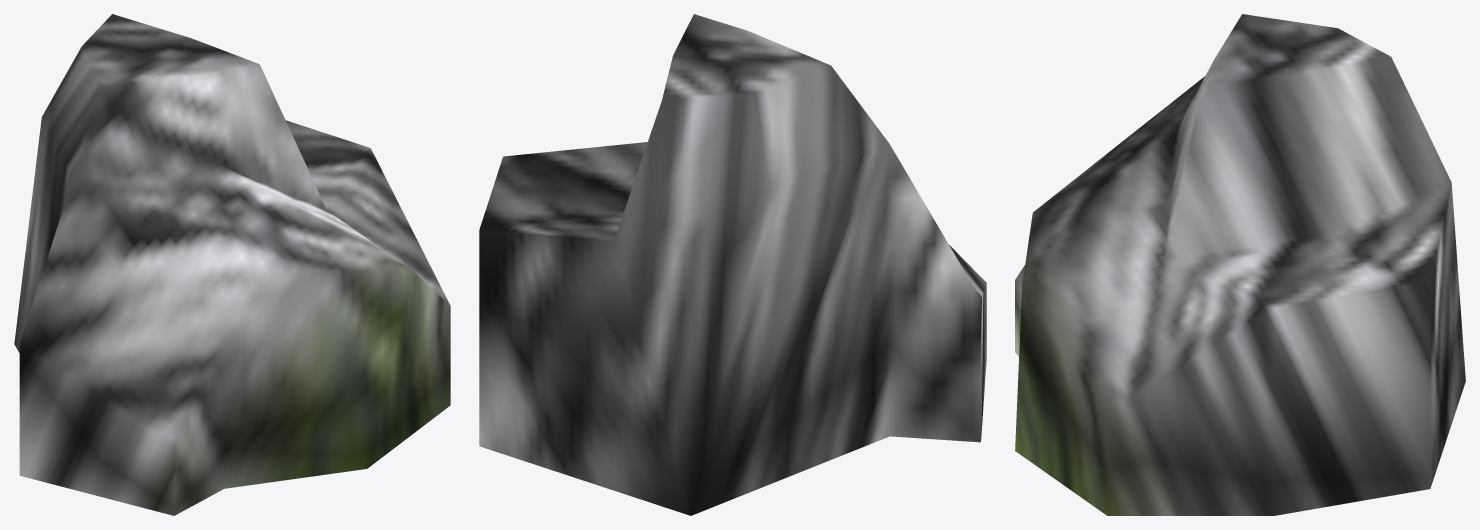
The model's file is Rock4.fbx.
3 renders of one model, left to right at view 1: azimuth 30°, elevation 25°; view 2: azimuth 150°, elevation 25°; view 3: azimuth 270°, elevation 25°, orthographic. The views are drawn at different scales.
Parts seen in each view (by area): view 1: Rock4; view 2: Rock4; view 3: Rock4.
Part boxes in pixels (x1,y1,x2,y2): Rock4: (14,14,450,515); Rock4: (479,14,986,515); Rock4: (1015,14,1465,515).
Bounding box in the file's own units: 196 × 161 × 185.
